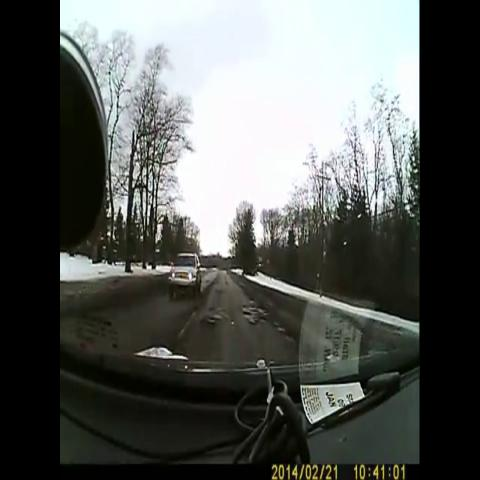pothole: (201, 297, 236, 334), (235, 294, 269, 332), (215, 267, 234, 292)
